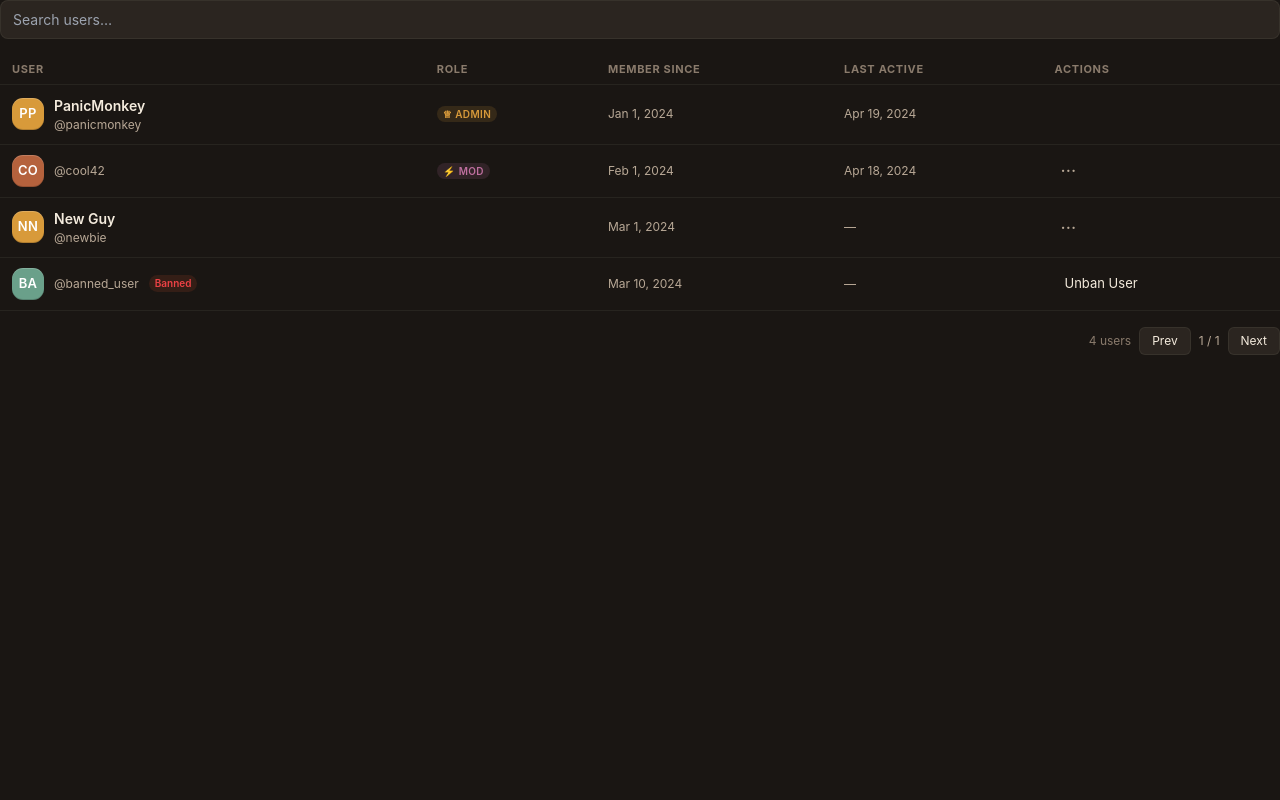
it: UserTable — action feedback › shows an error and keeps the ban dialog open when banning fails
Click the button titled "actions" in the row of "New Guy" at [1068, 227], box [1054,212,1082,242]
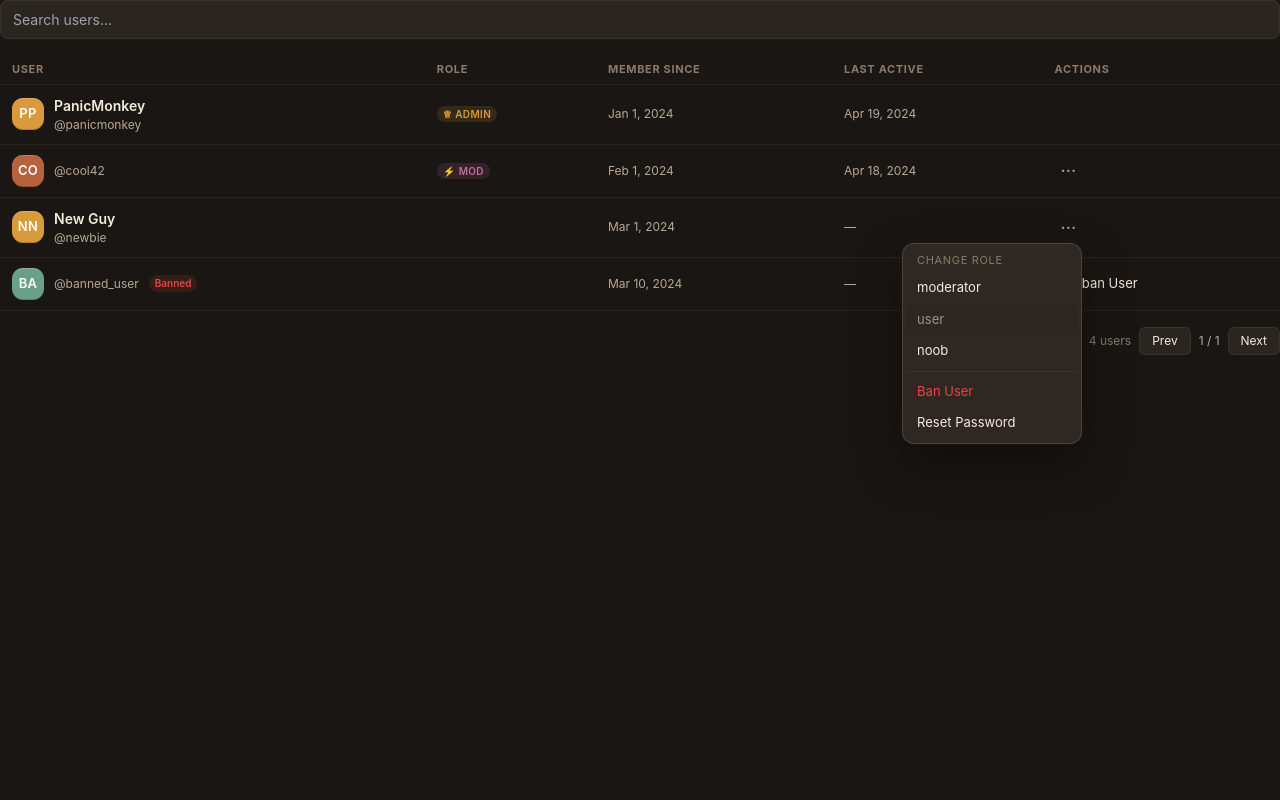
Click the button "Ban User" at [992, 391], box [907,376,1077,407]
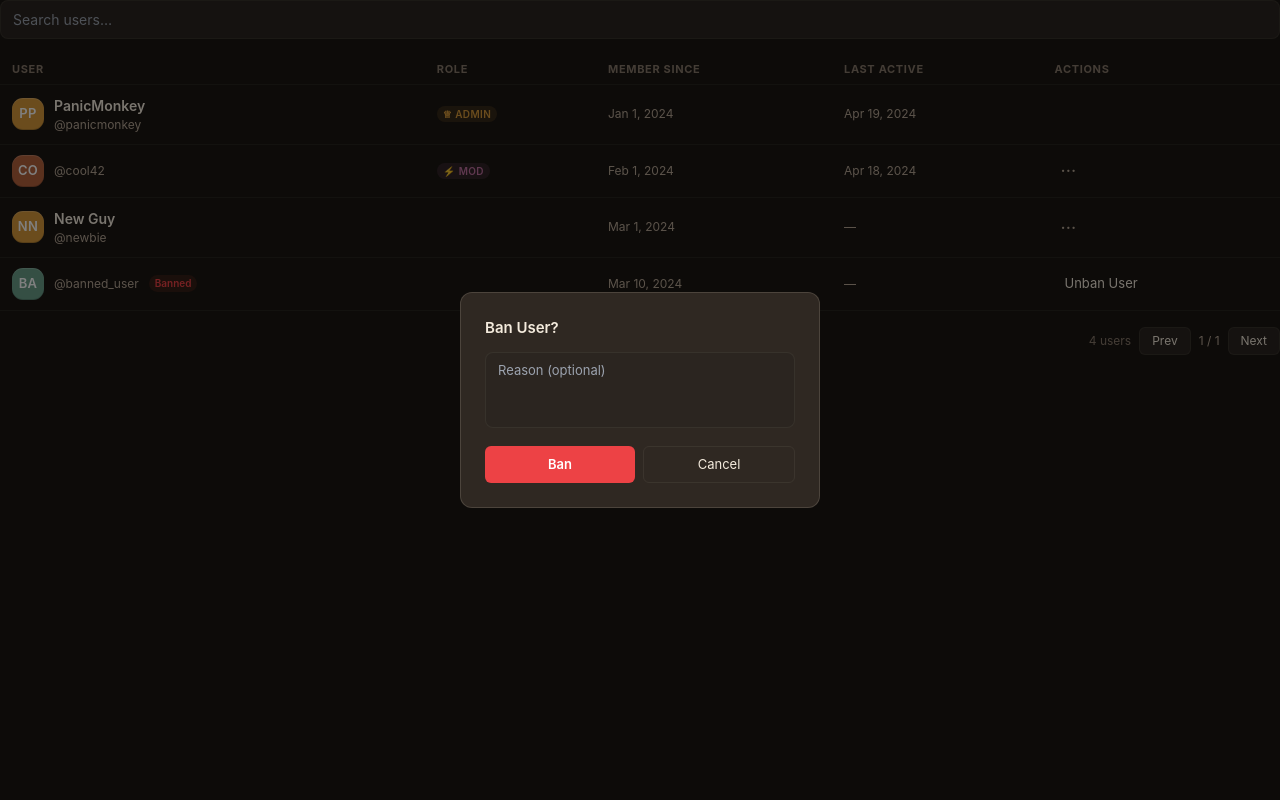
Type "spam links" into the text box with placeholder "Reason (optional)" at [640, 390], box [485,352,795,428]
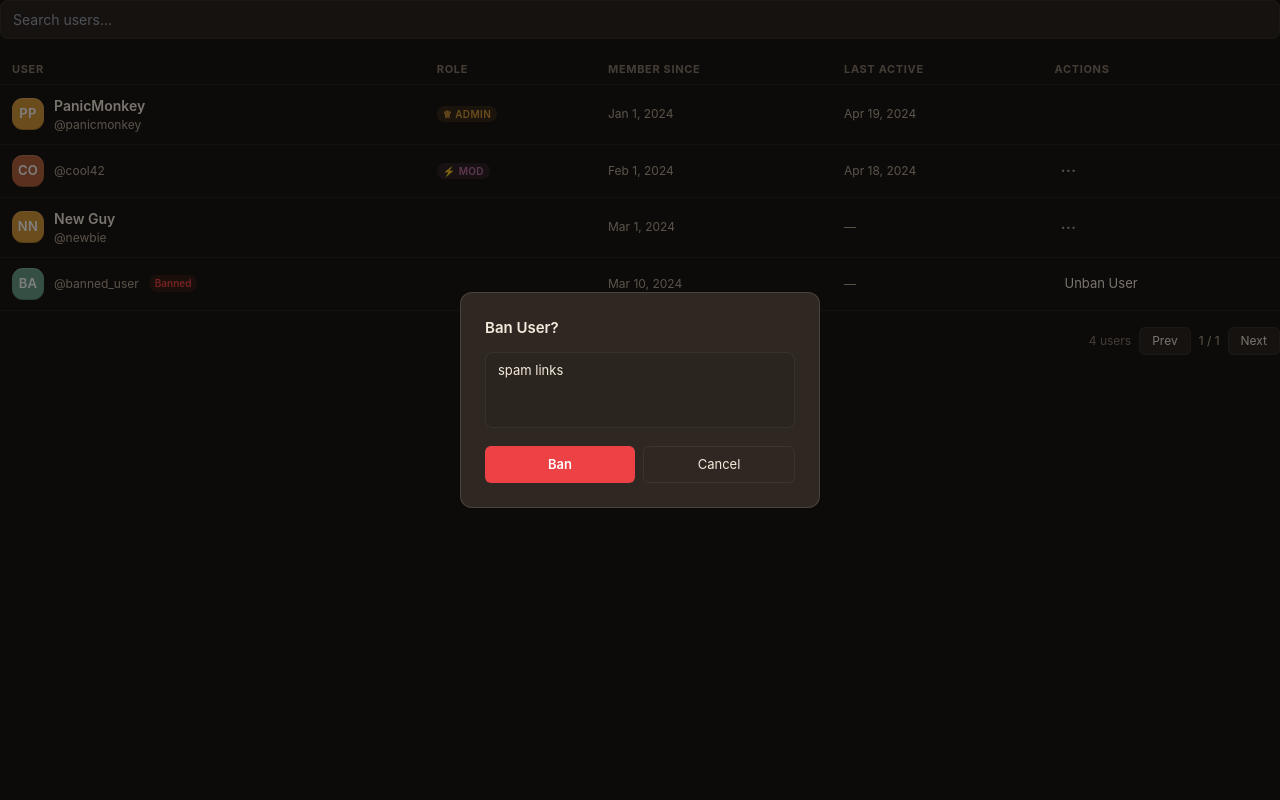
Click the button with test id "confirm-ban-user" at [560, 464], box [485,446,635,483]
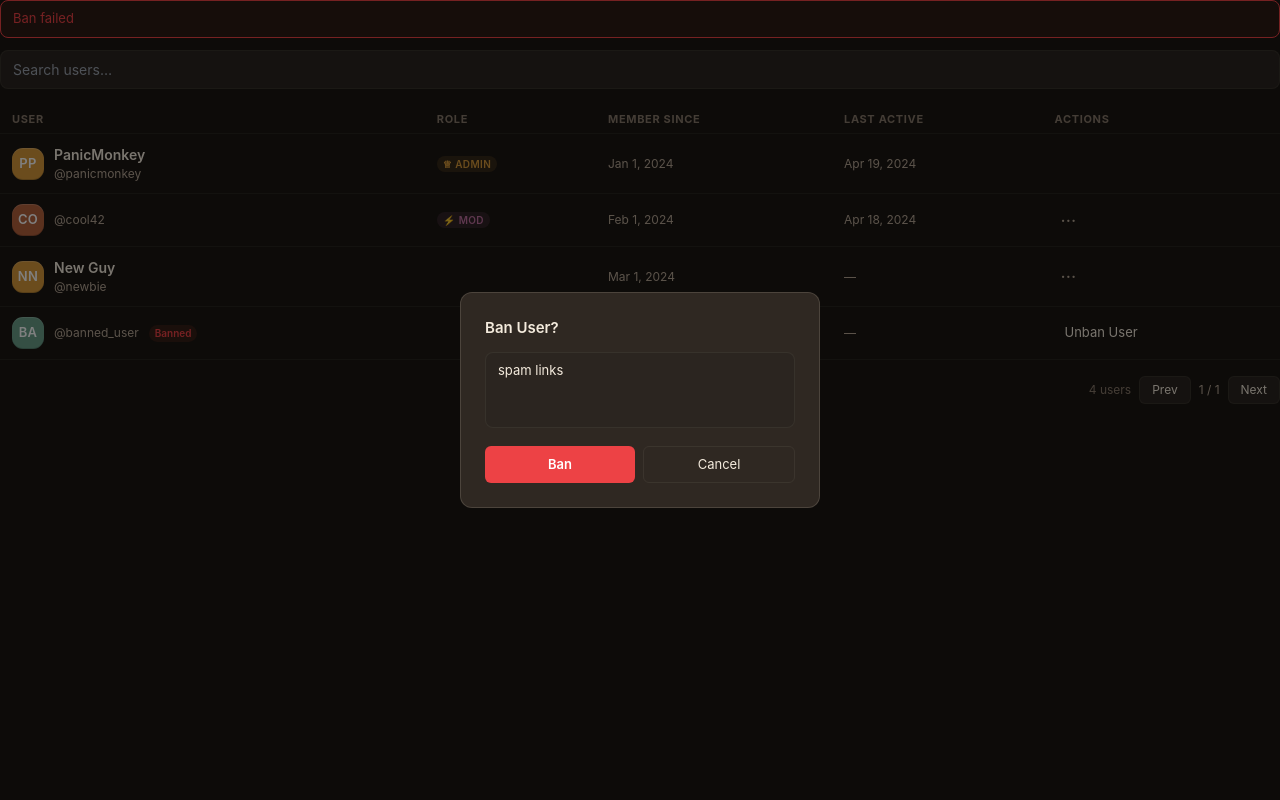
Expected: the text "Ban User?" is shown, [485,318,559,337]
Expected: the text "Ban failed" is shown, [0,0,1279,38]
